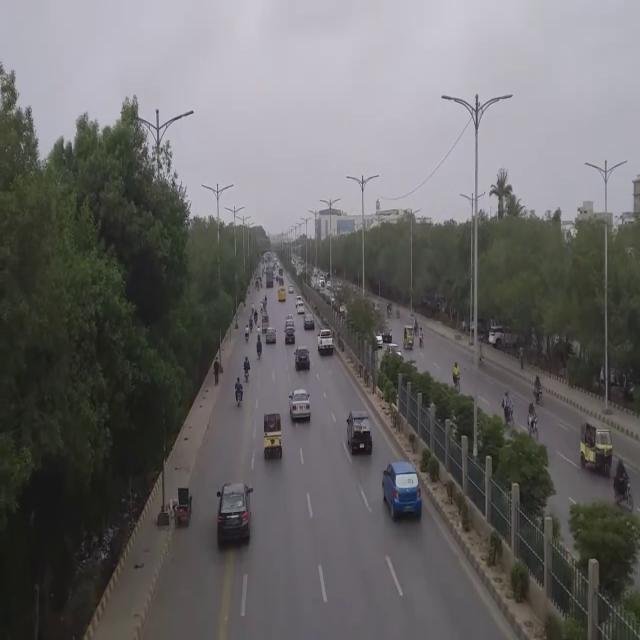car: (383, 462, 424, 520), (216, 483, 252, 547), (346, 411, 375, 457), (288, 388, 310, 422), (379, 316, 399, 346), (318, 328, 336, 354), (294, 349, 311, 373), (284, 324, 296, 350), (266, 326, 276, 348), (304, 316, 316, 329)
motorbike: (500, 386, 518, 426), (526, 400, 540, 443), (531, 372, 545, 407), (450, 362, 462, 394), (418, 323, 428, 351), (255, 334, 263, 367)
truck: (266, 261, 273, 297), (278, 286, 286, 307)
